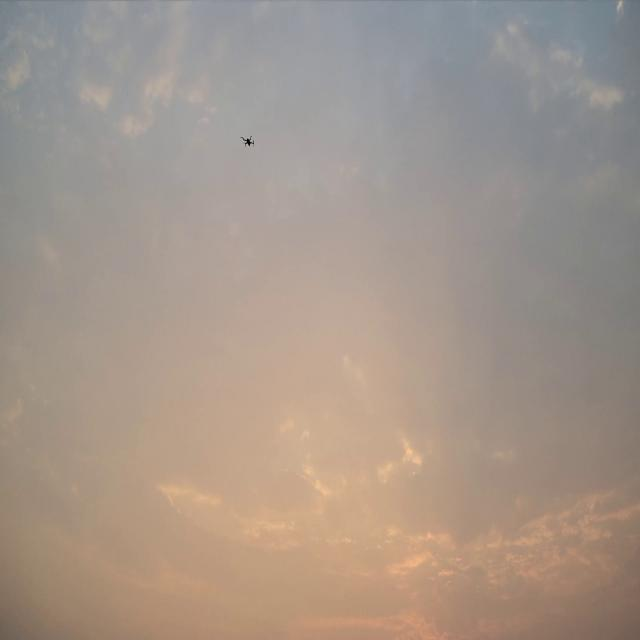UAV: (240, 134, 256, 146)
